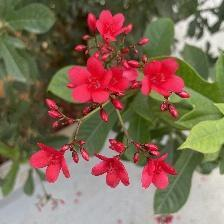jatropha: (70, 57, 115, 108), (28, 141, 75, 185), (90, 150, 132, 195), (141, 60, 188, 100), (144, 154, 179, 196)
